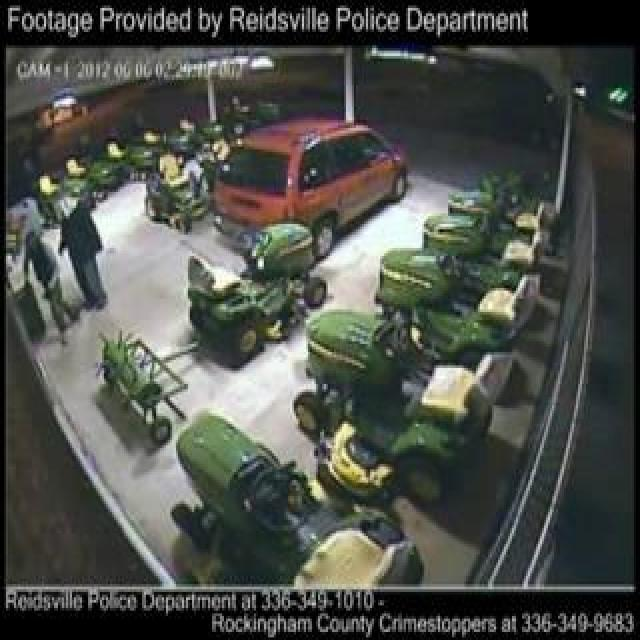thief: (19, 183, 89, 297)
